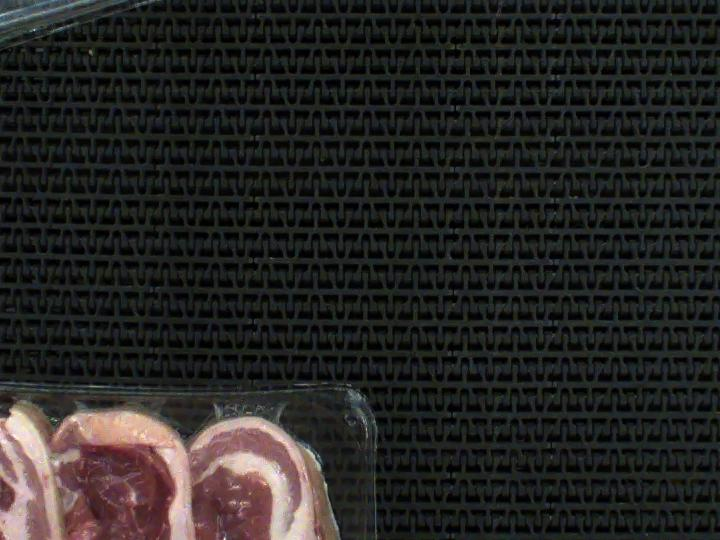packaging-error: (0, 348, 343, 447)
